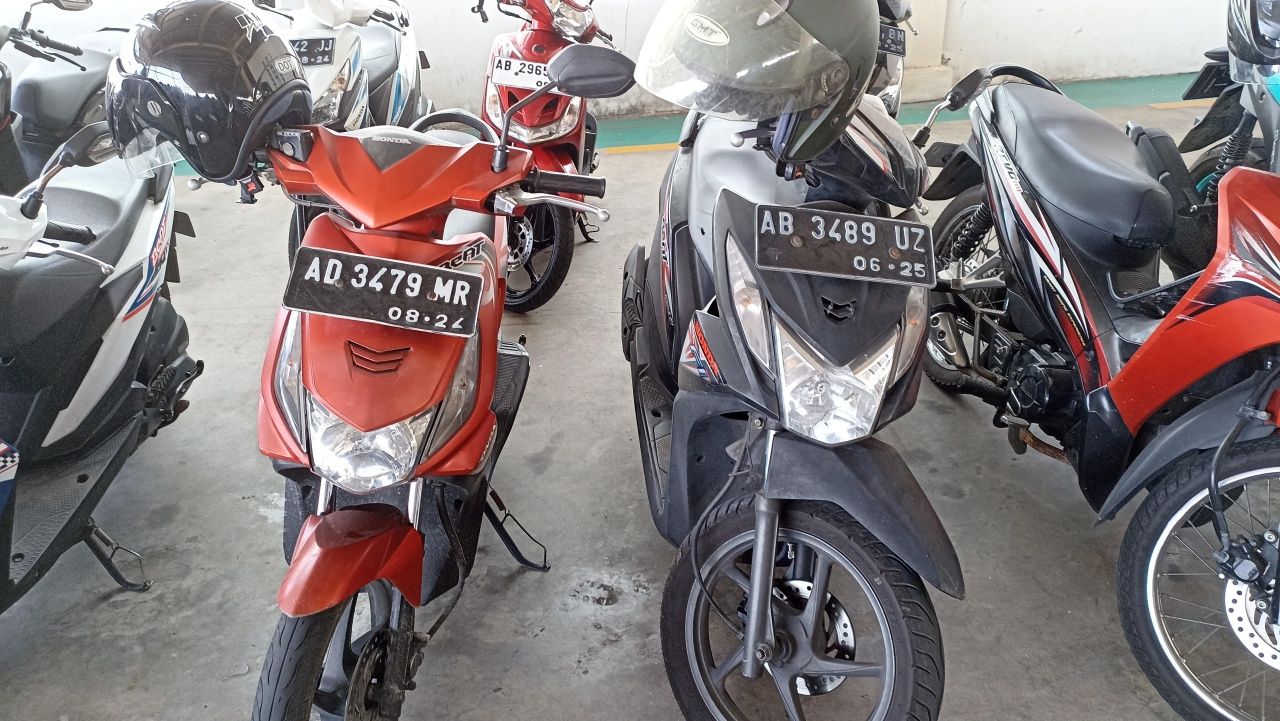plate: (282, 245, 487, 340), (756, 202, 936, 289)
